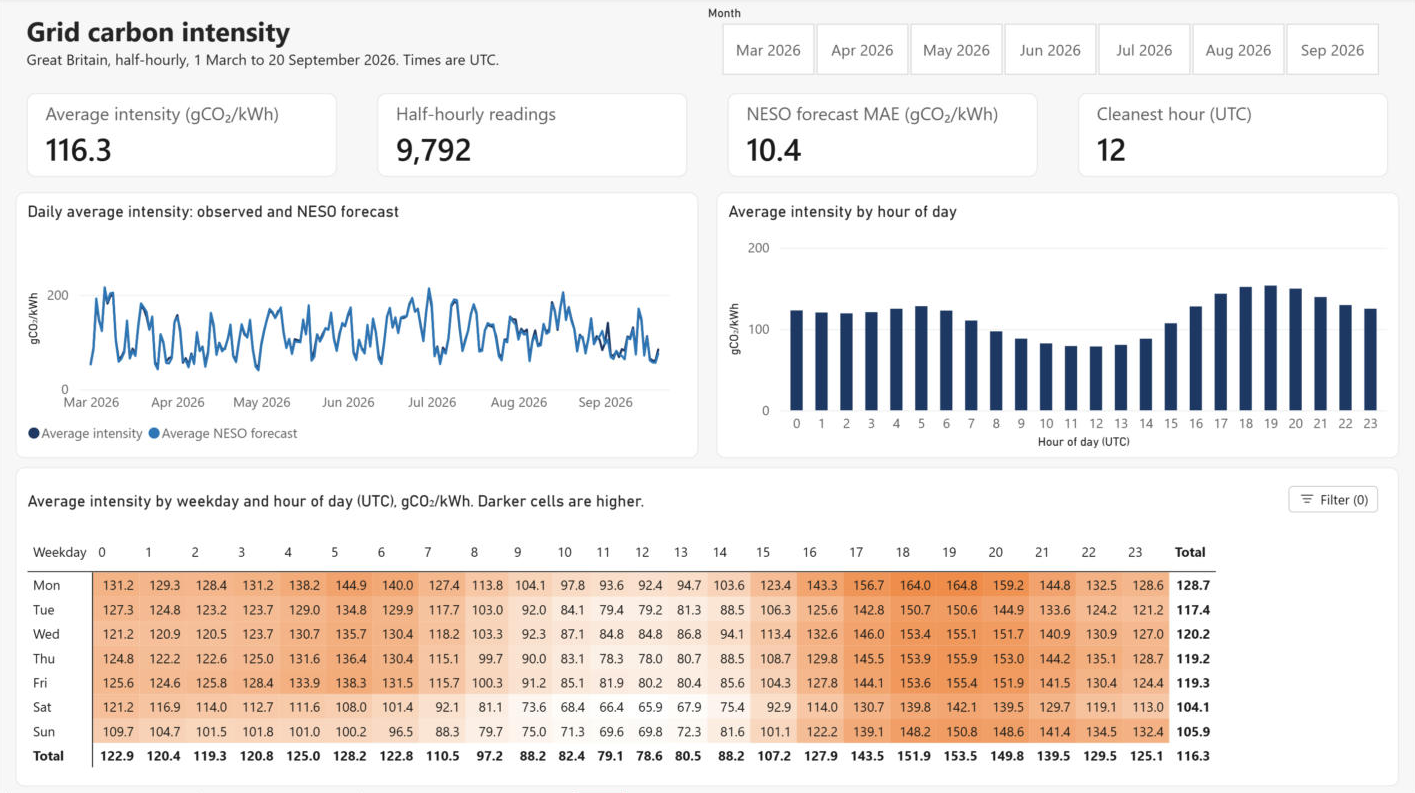

The page's visual inventory and layout, read from the dashboard file:
{"tool":"powerbi","page":{"name":"Grid carbon intensity","canvas":[1280,720],"ordinal":0},"visuals":[{"type":"textbox","box":[16,8,600,64],"z":0},{"type":"slicer","fields":{"Values":["DimDate.Month"]},"box":[632,8,632,64],"z":1},{"type":"cardVisual","fields":{"Data":["Carbon.Average intensity"]},"box":[16,80,300,88],"z":2},{"type":"cardVisual","fields":{"Data":["Carbon.Readings"]},"box":[332,80,300,88],"z":3},{"type":"cardVisual","fields":{"Data":["Carbon.NESO forecast MAE"]},"box":[648,80,300,88],"z":4},{"type":"cardVisual","fields":{"Data":["Carbon.Cleanest hour (UTC)"]},"box":[964,80,300,88],"z":5},{"type":"lineChart","title":"Daily average intensity: observed and NESO forecast","fields":{"Category":["DimDate.Date"],"Y":["Carbon.Average intensity","Carbon.Average NESO forecast"]},"box":[16,176,616,240],"z":6},{"type":"clusteredColumnChart","title":"Average intensity by hour of day","fields":{"Category":["Carbon.hour"],"Y":["Carbon.Average intensity"]},"box":[648,176,616,240],"z":7},{"type":"pivotTable","title":"Average intensity by weekday and hour of day (UTC), gCO₂/kWh. Darker cells are higher.","fields":{"Rows":["DimDate.Weekday"],"Columns":["Carbon.hour"],"Values":["Carbon.Average intensity"]},"box":[16,424,1248,288],"z":8}]}

Visuals, with their boxes in screenshot pixels (x1, y1, x2, y2), scaled from the page's 1280x720 canvas onto the 1415x793 screenshot:
textbox: left=18, top=9, right=681, bottom=79
slicer - DimDate.Month: left=699, top=9, right=1397, bottom=79
cardVisual - Carbon.Average intensity: left=18, top=88, right=349, bottom=185
cardVisual - Carbon.Readings: left=367, top=88, right=699, bottom=185
cardVisual - Carbon.NESO forecast MAE: left=716, top=88, right=1048, bottom=185
cardVisual - Carbon.Cleanest hour (UTC): left=1066, top=88, right=1397, bottom=185
"Daily average intensity: observed and NESO forecast" lineChart: left=18, top=194, right=699, bottom=458
"Average intensity by hour of day" clusteredColumnChart: left=716, top=194, right=1397, bottom=458
"Average intensity by weekday and hour of day (UTC), gCO₂/kWh. Darker cells are higher." pivotTable: left=18, top=467, right=1397, bottom=784
